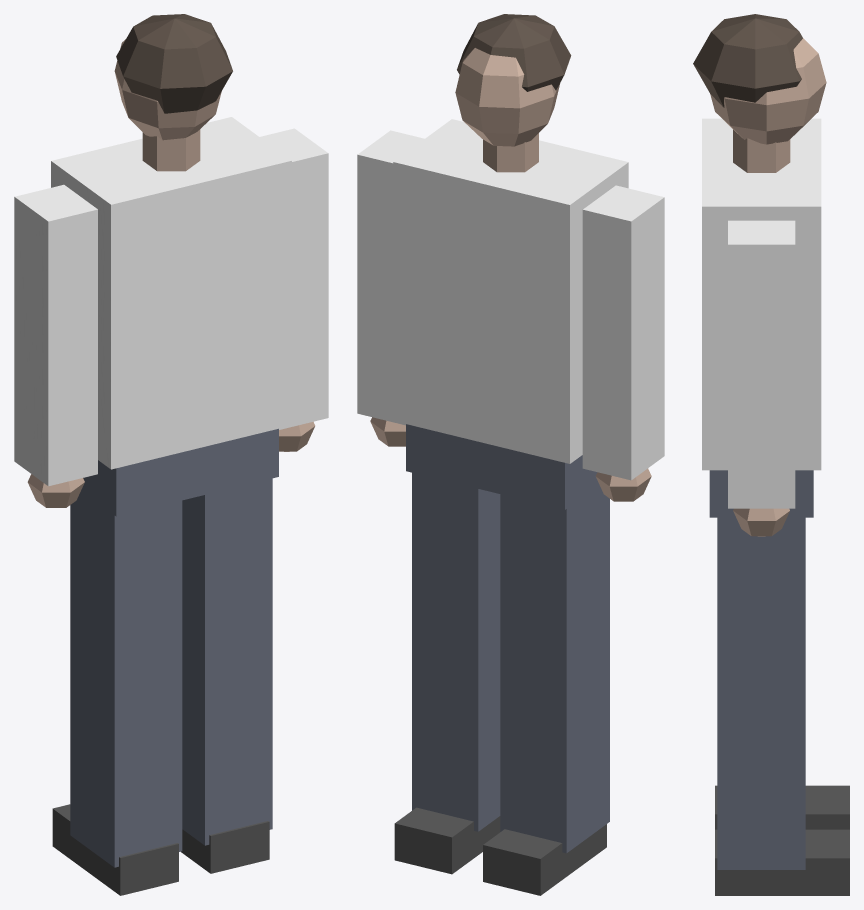
The model's file is pedestrian.glb.
3 views of the same model, side by side, from view 1: azimuth 30°, elevation 25°; view 2: azimuth 150°, elevation 25°; view 3: azimuth 270°, elevation 25° (orthographic). The views are drawn at different scales.
Parts seen in each view (by area): view 1: pedestrian; view 2: pedestrian; view 3: pedestrian.
Boxes of the visible parts, x1,y1,x2,y2 form: pedestrian: (14,14,328,895); pedestrian: (357,14,664,895); pedestrian: (693,14,849,895).
Size of the model in its own units: 0.62 by 1.79 by 0.302.
